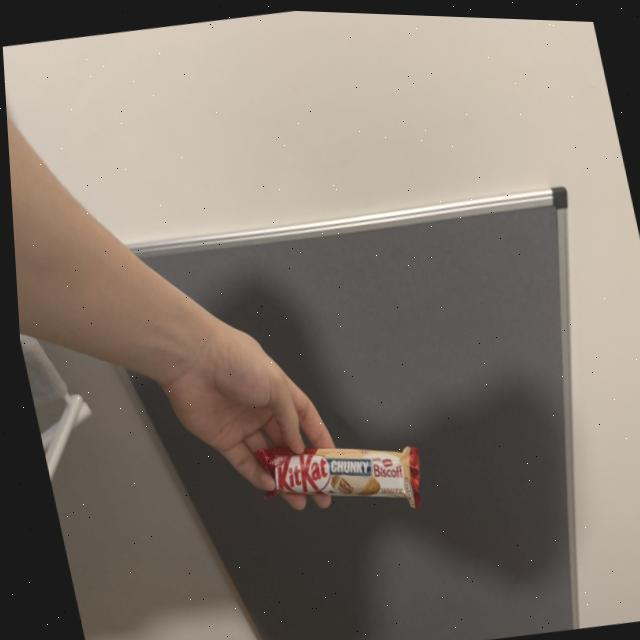chocolate: (237, 405, 435, 539)
